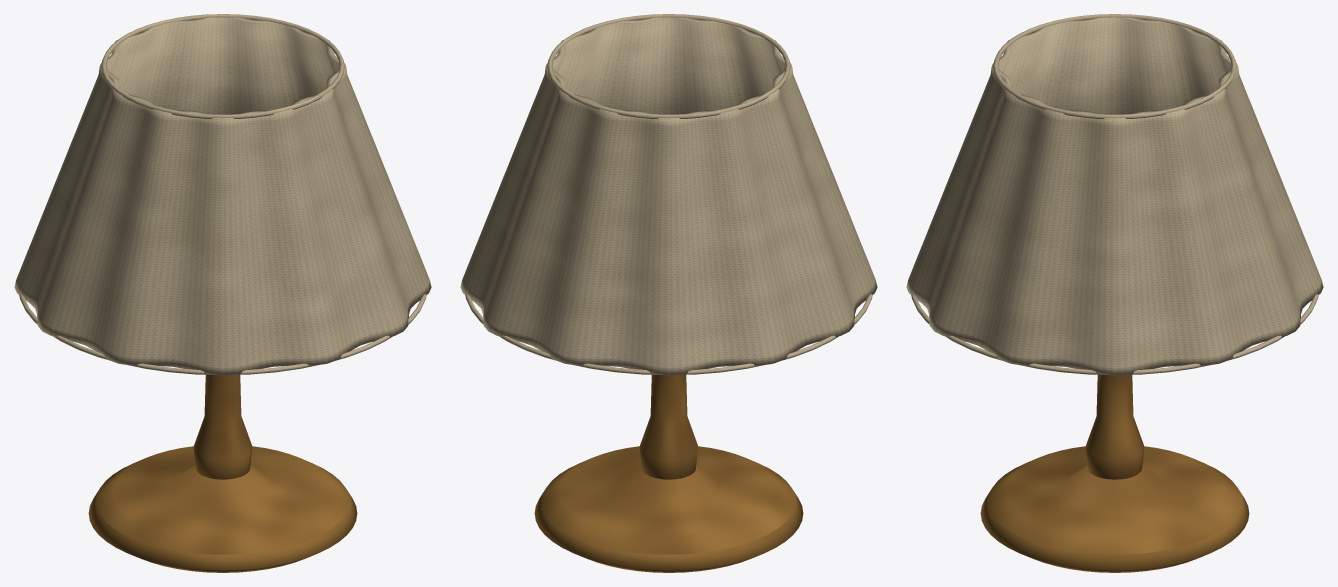
Rendered from TableLamp.fbx.
3 views of the same model, side by side, from view 1: azimuth 30°, elevation 25°; view 2: azimuth 150°, elevation 25°; view 3: azimuth 270°, elevation 25° (orthographic).
Visible parts, largest first — view 1: TableLamp_Glow, TableLamp_Brass, TableLamp_Linen; view 2: TableLamp_Glow, TableLamp_Brass, TableLamp_Linen; view 3: TableLamp_Glow, TableLamp_Brass, TableLamp_Linen.
Boxes of the visible parts, left/top/right/bottom form: TableLamp_Glow: left=14, top=17, right=431, bottom=375; TableLamp_Brass: left=88, top=375, right=357, bottom=572; TableLamp_Linen: left=19, top=14, right=426, bottom=374; TableLamp_Glow: left=460, top=17, right=877, bottom=375; TableLamp_Brass: left=534, top=375, right=803, bottom=572; TableLamp_Linen: left=465, top=14, right=872, bottom=374; TableLamp_Glow: left=906, top=17, right=1323, bottom=375; TableLamp_Brass: left=980, top=375, right=1249, bottom=572; TableLamp_Linen: left=911, top=14, right=1318, bottom=374.
Bounding box in the file's own units: 49.68 × 60.3 × 49.68.
